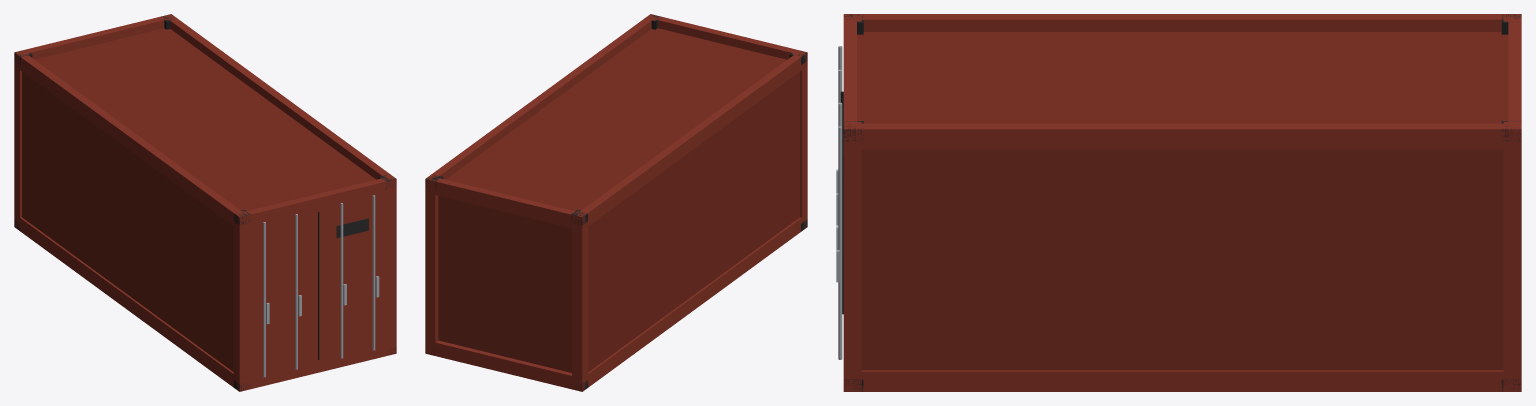
File: CONTAINER.glb
3 views of the same model, side by side, from view 1: azimuth 30°, elevation 25°; view 2: azimuth 150°, elevation 25°; view 3: azimuth 270°, elevation 25° (orthographic). The views are drawn at different scales.
Visible parts, largest first — view 1: corrugated_0, paint_1, steel_3, tread_2, reflective_4; view 2: corrugated_0, paint_1, tread_2; view 3: corrugated_0, paint_1, steel_3, tread_2.
Boxes of the visible parts, x1=… form: corrugated_0: x1=22, y1=28, x2=375, y2=371; paint_1: x1=14, y1=14, x2=396, y2=391; steel_3: x1=263, y1=195, x2=379, y2=377; tread_2: x1=14, y1=14, x2=396, y2=391; reflective_4: x1=336, y1=218, x2=368, y2=238; corrugated_0: x1=438, y1=28, x2=799, y2=372; paint_1: x1=425, y1=14, x2=807, y2=391; tread_2: x1=425, y1=14, x2=807, y2=391; corrugated_0: x1=857, y1=32, x2=1508, y2=370; paint_1: x1=843, y1=14, x2=1521, y2=391; steel_3: x1=836, y1=46, x2=842, y2=359; tread_2: x1=840, y1=14, x2=1521, y2=391.
Bounding box in the file's own units: 2.44 × 2.59 × 6.12.
